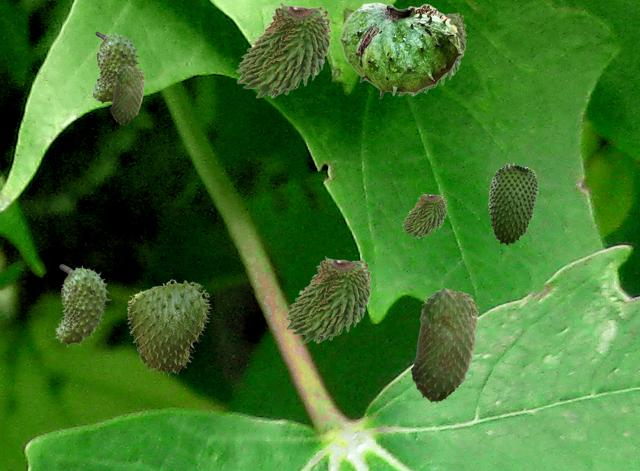guyabano: (339, 2, 461, 98), (235, 1, 331, 97), (127, 279, 211, 375), (410, 287, 478, 402), (284, 255, 371, 342), (397, 12, 466, 95), (54, 264, 110, 346), (488, 163, 537, 245), (90, 31, 140, 104), (401, 192, 446, 237), (110, 65, 144, 124)
